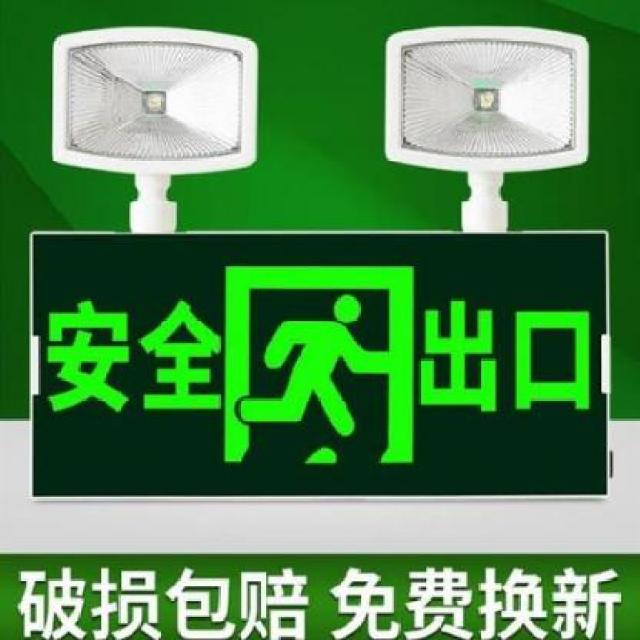exit_sign: (25, 228, 630, 510)
